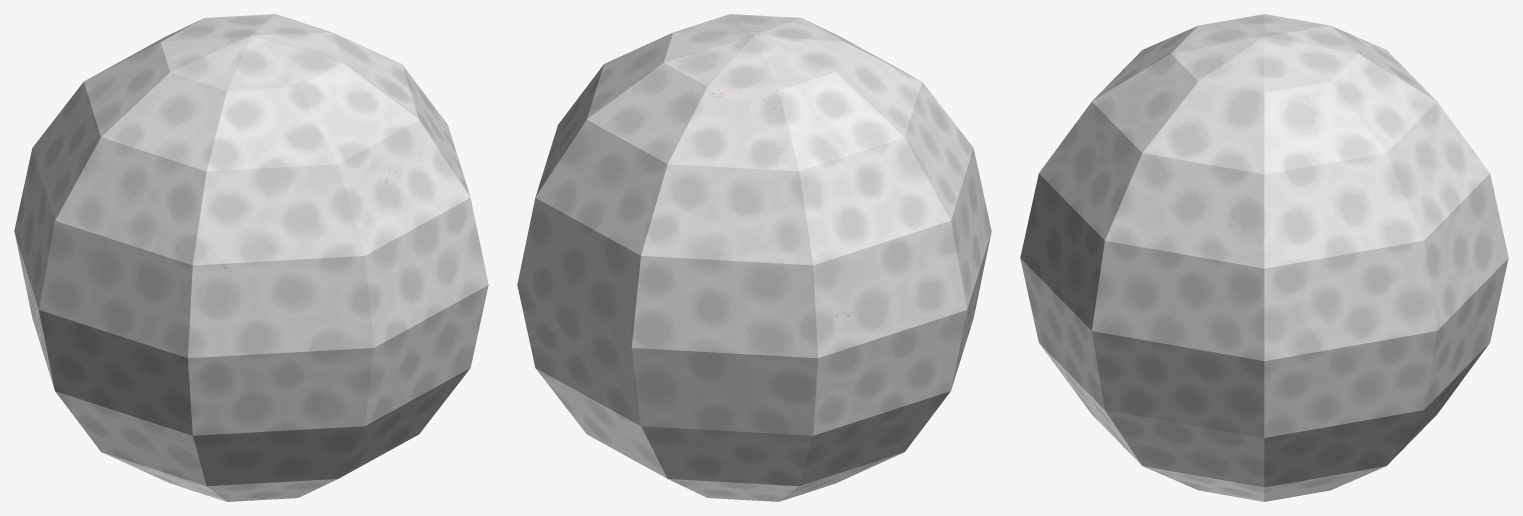
File: Golf_Ball.obj
3 views of the same model, side by side, from view 1: azimuth 30°, elevation 25°; view 2: azimuth 150°, elevation 25°; view 3: azimuth 270°, elevation 25° (orthographic).
Visible parts, largest first — view 1: UV_Sphere_UV_Sphere; view 2: UV_Sphere_UV_Sphere; view 3: UV_Sphere_UV_Sphere.
Part boxes in pixels (left/top/right/bottom): UV_Sphere_UV_Sphere: left=14, top=14, right=488, bottom=501; UV_Sphere_UV_Sphere: left=517, top=14, right=991, bottom=501; UV_Sphere_UV_Sphere: left=1020, top=14, right=1508, bottom=501.
Size of the model in its own units: 1 by 1 by 1.
1 material, 1 textured.
